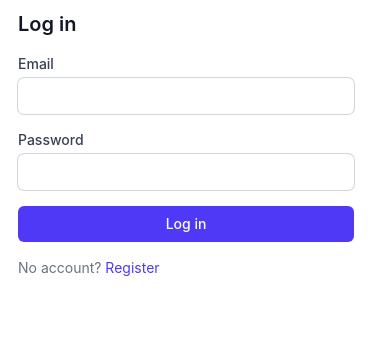
Scenario: LoginPage › shows one generic error on invalid credentials, revealing neither field (FR-3, Scenario 1, Edge Case)
Type "alice@example.com" into the field labelled "Email".
click(186, 96); type("alice@example.com")  # box [18,78,354,114]
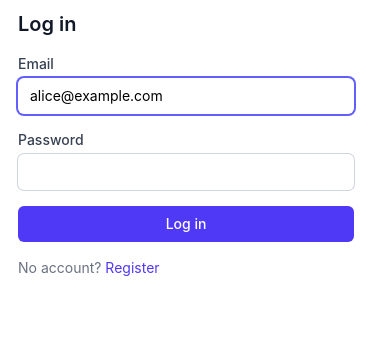
Type "wrong" into the password field labelled "Password".
click(186, 172); type("wrong")  # box [18,154,354,190]
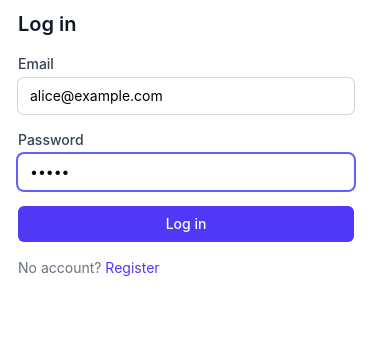
Click the button "Log in".
click(186, 224)  # box [18,206,354,242]
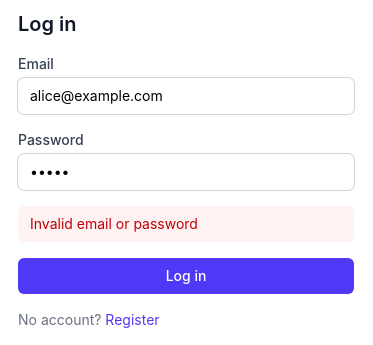
Expected: the message reads "Invalid email or password", [30,215,198,232]
